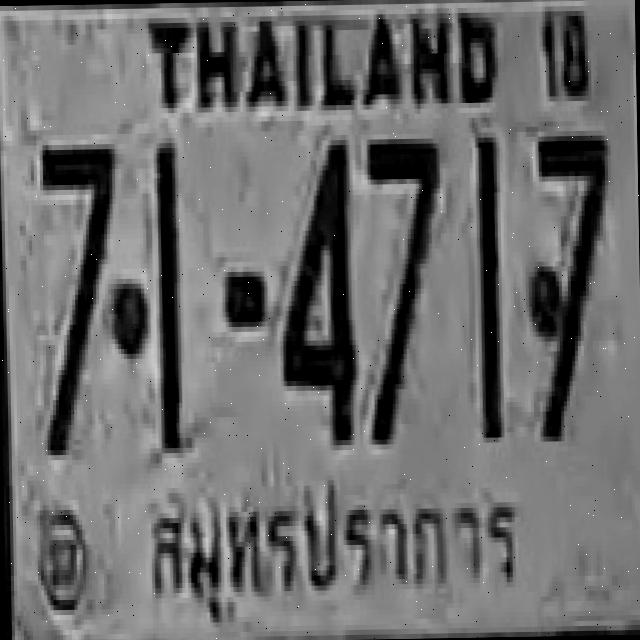1: (473, 124, 502, 440), (154, 140, 182, 450)
4: (276, 132, 354, 438)
7: (526, 128, 612, 438), (39, 141, 119, 452), (362, 133, 442, 439), (363, 130, 440, 407), (39, 138, 118, 370)
SamutPrakan: (130, 462, 530, 626)
